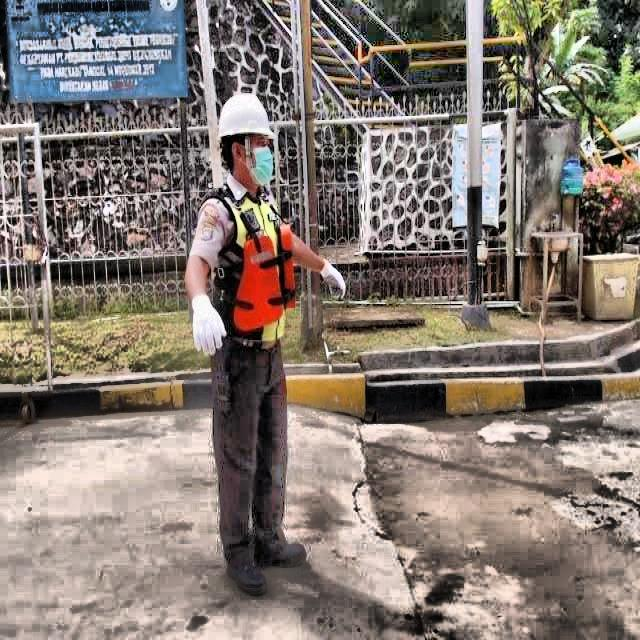safety_jacket: (210, 179, 301, 337)
